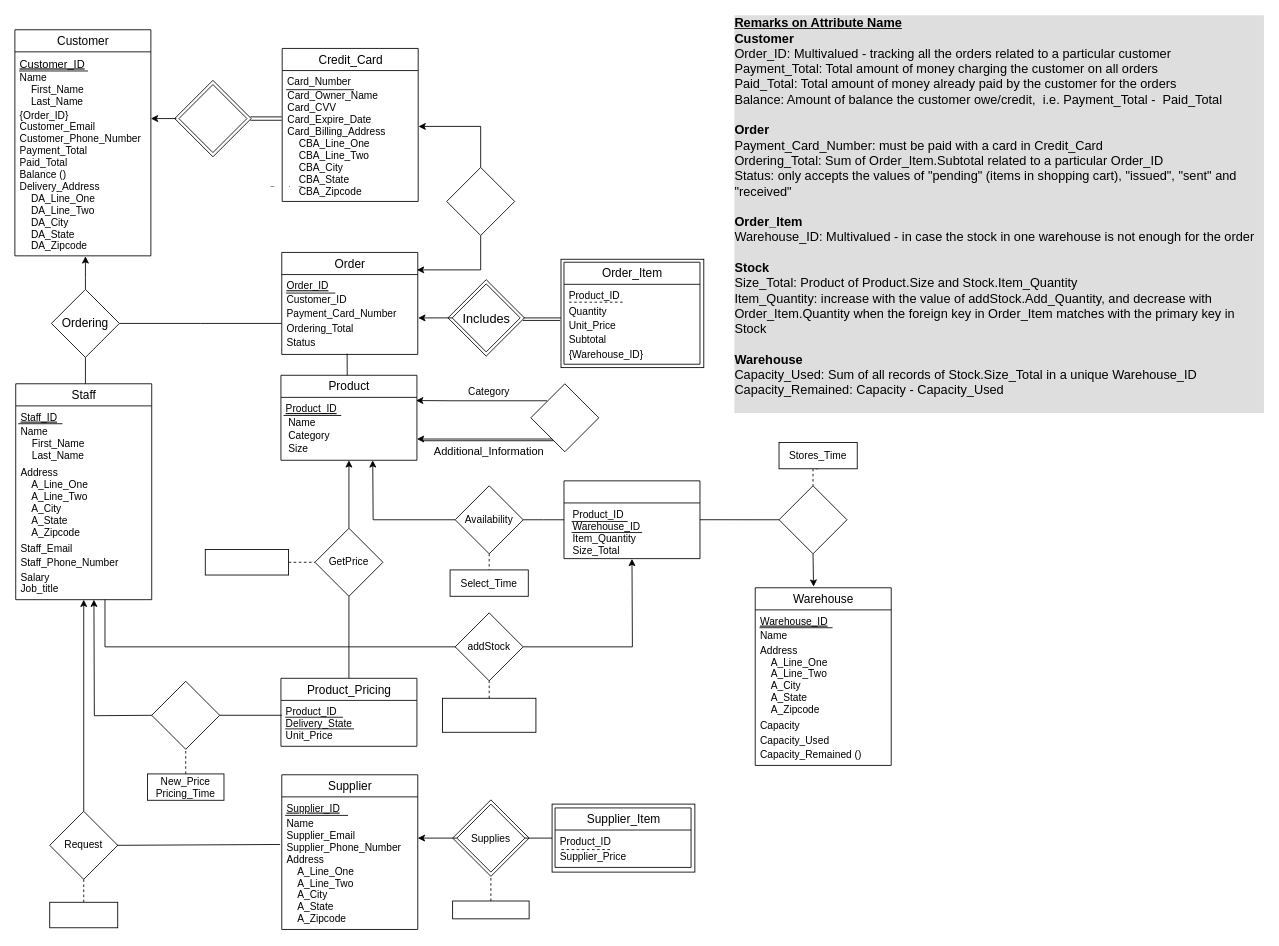
The diagram is 1279 pixels wide and 946 high, and some of its shapes have lost their labels. The shapes that lost their labels are listed below. From the top down, each one's centre as x and y in pixels, then its label:
At point 212,118: "Owns".
At point 480,201: "PaidWith".
At point 564,417: "Label".
At point 631,519: "Stock".
At point 812,519: "Stores".
At point 246,562: "GetPrice_Time".
At point 185,714: "Pricing".
At point 489,714: "Add_Quantity Add_Time".
At point 83,914: "Details".
At point 490,909: "Supply_Time".
